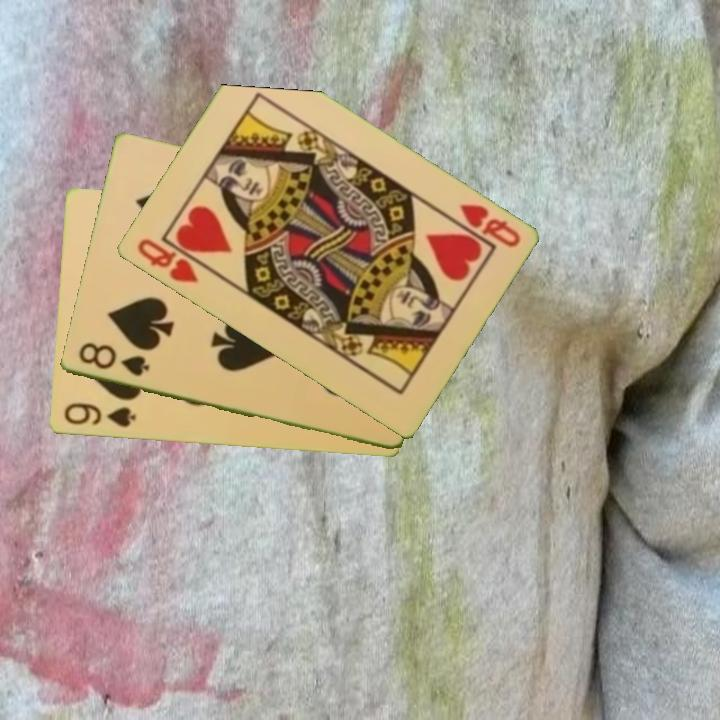8s: (74, 339, 152, 380)
9s: (60, 400, 138, 431)
Qh: (133, 235, 201, 286), (455, 200, 523, 251)
